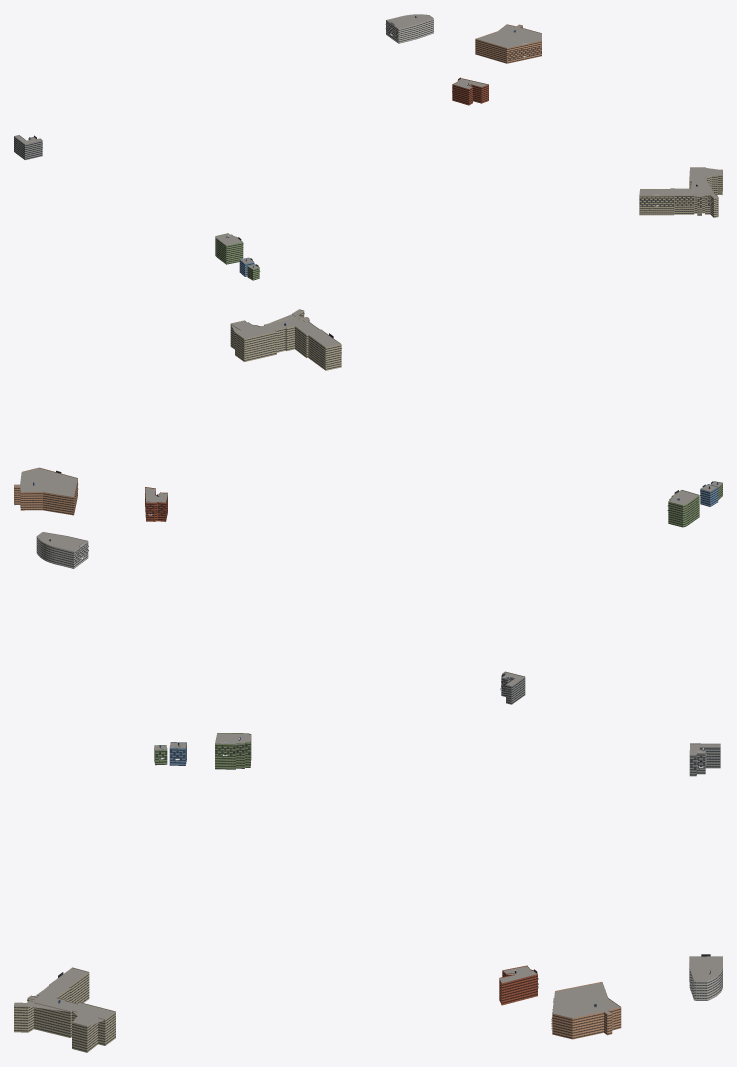
The model's file is hotels-27362-14869.1c643f58.glb.
3 renders of one model, top to bottom at view 1: azimuth 30°, elevation 25°; view 2: azimuth 150°, elevation 25°; view 3: azimuth 270°, elevation 25°, orthographic. The views are drawn at different scales.
Bounding box in the file's own units: 837 × 75.03 × 801.
Materials: 4 (2 with a texture image).
